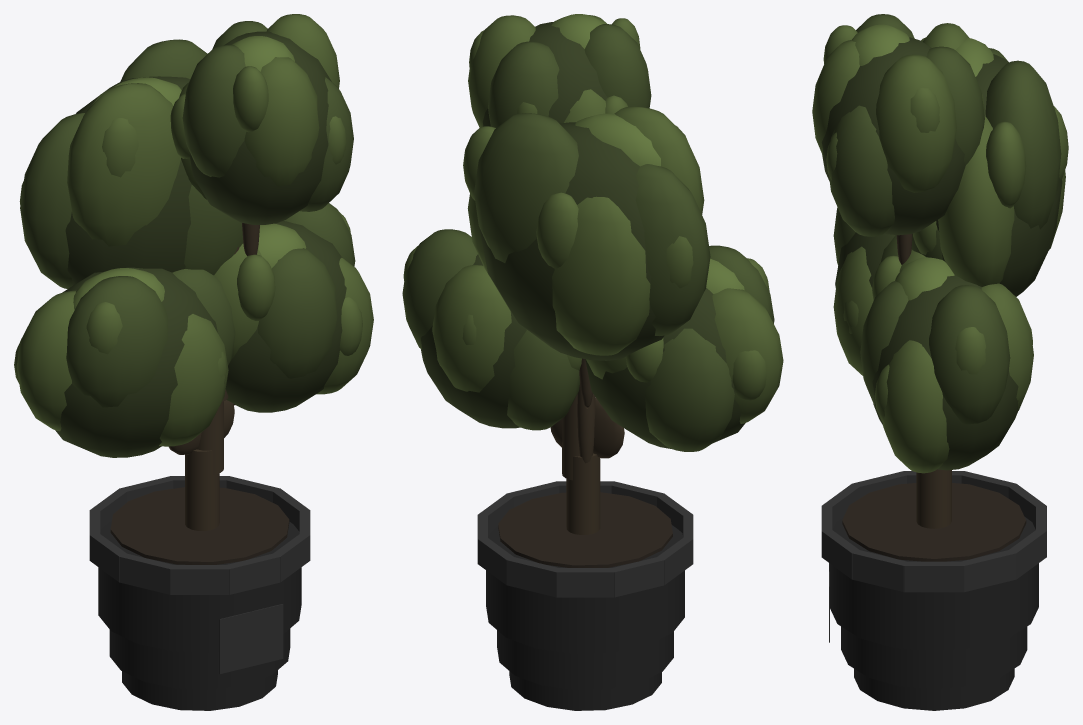
Rendered from CMU3DPottedPlant19.glb.
3 renders of one model, left to right at view 1: azimuth 30°, elevation 25°; view 2: azimuth 150°, elevation 25°; view 3: azimuth 270°, elevation 25°, orthographic. The views are drawn at different scales.
Parts seen in each view (by area): view 1: rounded irregular leaf spray (×17), shadowed foliage core (×4), upper pot wall, recessed soil, fine leafy crown edge (×7), lower tapered pot wall, crown highlight (×4), branch (×2), pot front highlight, narrow pot foot, hollow curved planter rim 09, hollow curved planter rim 10 (+7 smaller); view 2: rounded irregular leaf spray (×14), shadowed foliage core (×4), upper pot wall, recessed soil, fine leafy crown edge (×5), lower tapered pot wall, branch (×4), crown highlight (×3), narrow pot foot, hollow curved planter rim 05, hollow curved planter rim 04, hollow curved planter rim 06 (+6 smaller); view 3: rounded irregular leaf spray (×14), shadowed foliage core (×4), upper pot wall, recessed soil, fine leafy crown edge (×8), lower tapered pot wall, crown highlight (×3), narrow pot foot, hollow curved planter rim 01, branch, hollow curved planter rim 12, hollow curved planter rim 02 (+6 smaller).
Boxes of the visible parts, bbox=[...] form: rounded irregular leaf spray (×17): bbox=[16, 14, 373, 446]; shadowed foliage core (×4): bbox=[55, 31, 346, 457]; upper pot wall: bbox=[98, 520, 301, 652]; recessed soil: bbox=[110, 487, 289, 564]; fine leafy crown edge (×7): bbox=[86, 66, 362, 355]; lower tapered pot wall: bbox=[109, 628, 290, 689]; crown highlight (×4): bbox=[73, 36, 306, 309]; branch (×2): bbox=[185, 401, 223, 530]; pot front highlight: bbox=[219, 604, 283, 673]; narrow pot foot: bbox=[122, 670, 277, 710]; hollow curved planter rim 09: bbox=[170, 565, 229, 594]; hollow curved planter rim 10: bbox=[227, 553, 280, 594]; rounded irregular leaf spray (×14): bbox=[402, 15, 783, 451]; shadowed foliage core (×4): bbox=[421, 22, 745, 448]; upper pot wall: bbox=[486, 525, 684, 653]; recessed soil: bbox=[498, 492, 672, 567]; fine leafy crown edge (×5): bbox=[463, 126, 766, 400]; lower tapered pot wall: bbox=[497, 630, 673, 689]; branch (×4): bbox=[562, 383, 624, 534]; crown highlight (×3): bbox=[551, 14, 744, 293]; narrow pot foot: bbox=[509, 671, 661, 710]; hollow curved planter rim 05: bbox=[556, 568, 614, 597]; hollow curved planter rim 04: bbox=[506, 556, 557, 597]; hollow curved planter rim 06: bbox=[609, 556, 664, 597]; rounded irregular leaf spray (×14): bbox=[812, 14, 1061, 473]; shadowed foliage core (×4): bbox=[821, 37, 1062, 470]; upper pot wall: bbox=[829, 517, 1038, 651]; recessed soil: bbox=[842, 483, 1026, 561]; fine leafy crown edge (×8): bbox=[823, 25, 1068, 423]; lower tapered pot wall: bbox=[841, 626, 1027, 688]; crown highlight (×3): bbox=[852, 24, 993, 300]; narrow pot foot: bbox=[854, 668, 1014, 710]; hollow curved planter rim 01: bbox=[903, 561, 964, 592]; branch: bbox=[916, 470, 951, 528]; hollow curved planter rim 12: bbox=[851, 550, 906, 591]; hollow curved planter rim 02: bbox=[962, 550, 1016, 591].
Bounding box in the file's own units: 0.6474 × 1.13 × 0.3965.
